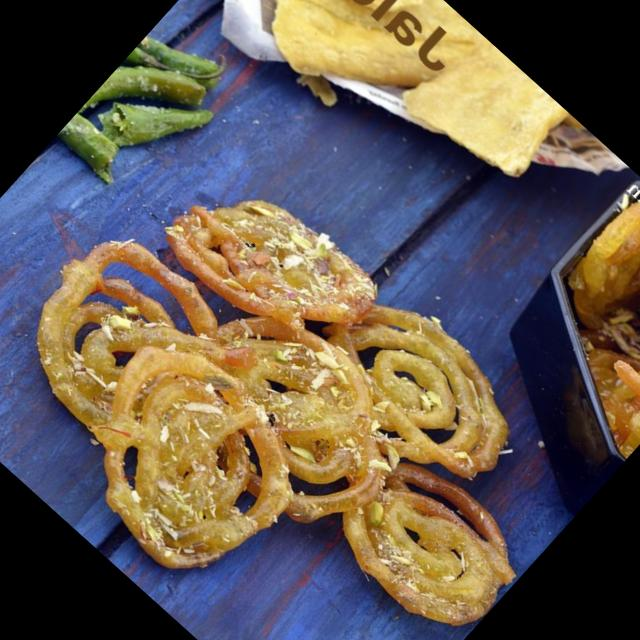jalebi: (0, 106, 611, 640)
